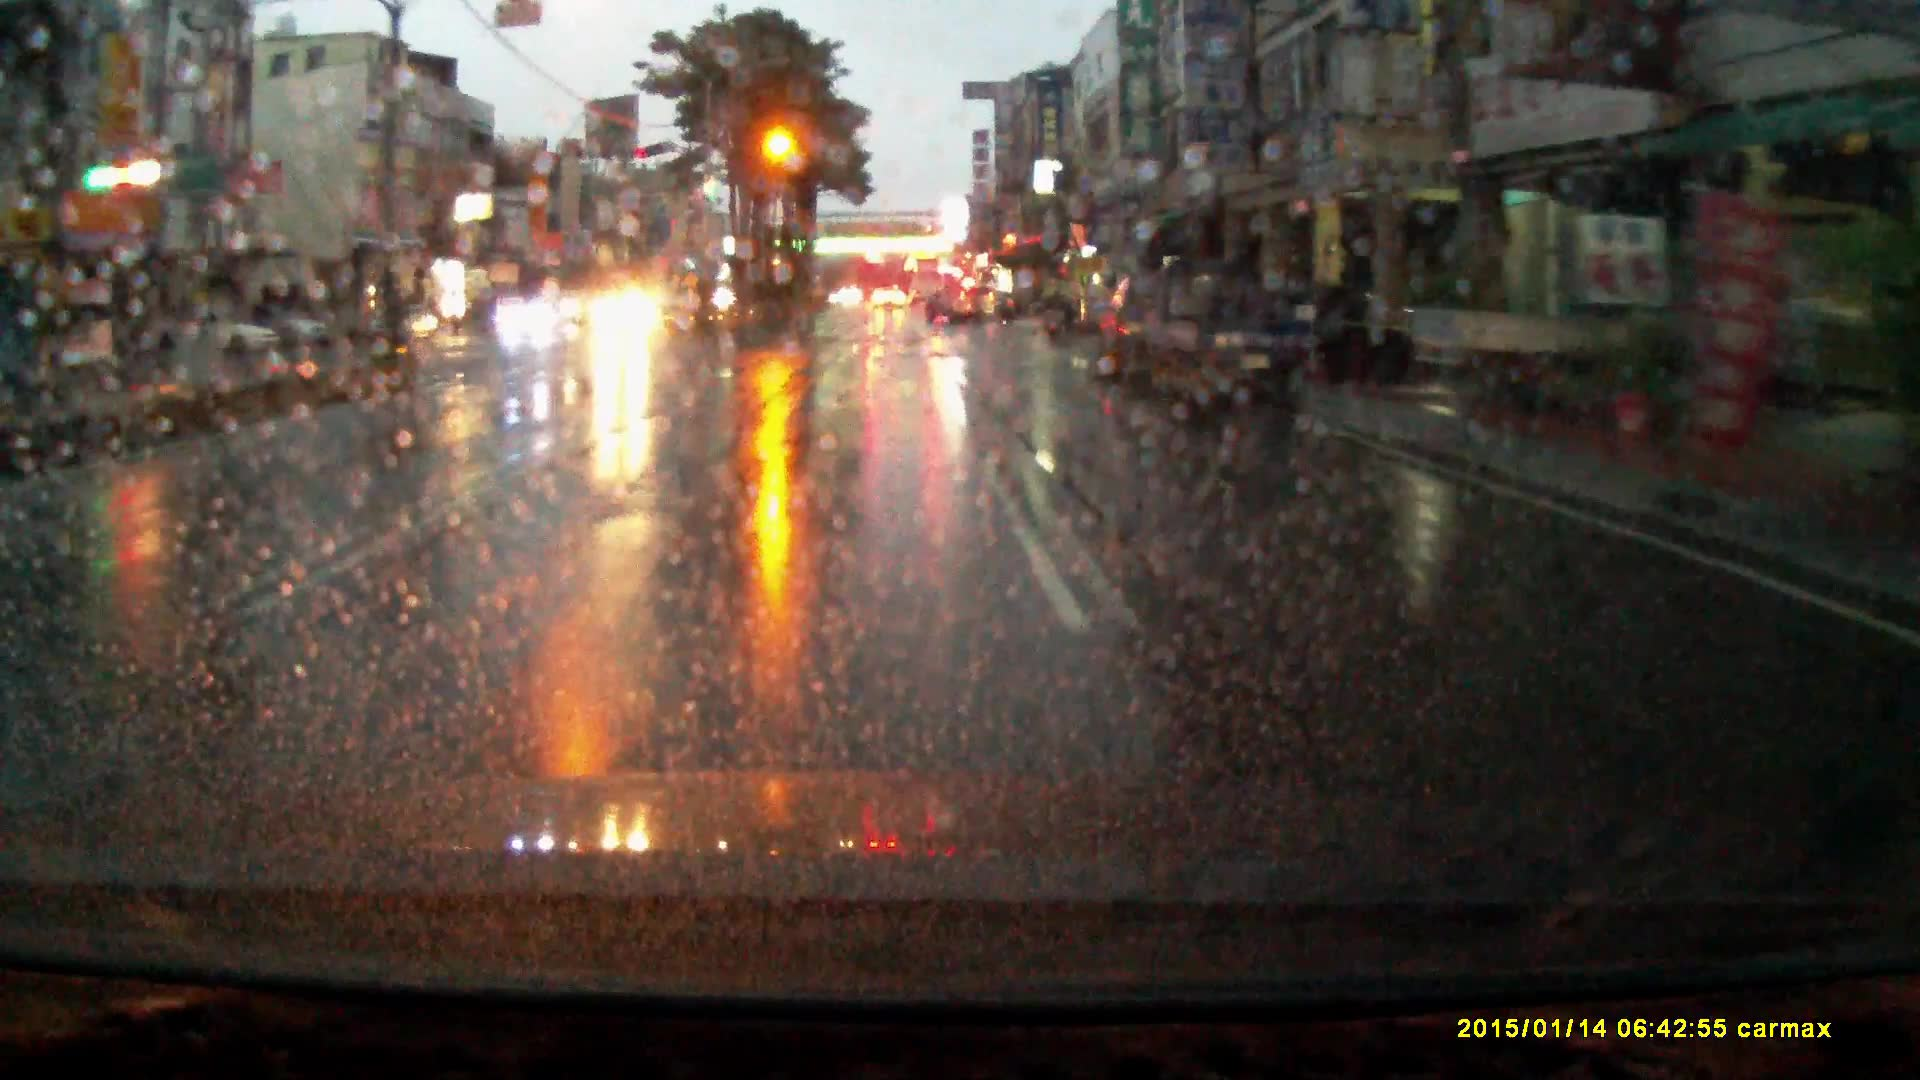vehicle: (1407, 306, 1672, 410), (1143, 256, 1305, 402), (152, 310, 276, 360), (1101, 273, 1143, 386), (589, 287, 666, 344), (255, 309, 335, 353), (926, 284, 998, 328), (369, 301, 435, 349), (501, 297, 563, 342), (910, 258, 945, 303), (872, 287, 907, 315), (1000, 294, 1021, 323)
